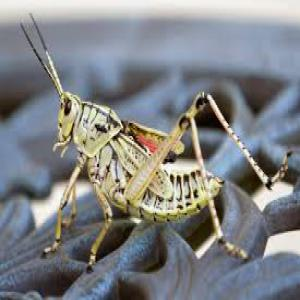locust: (39, 49, 237, 242)
